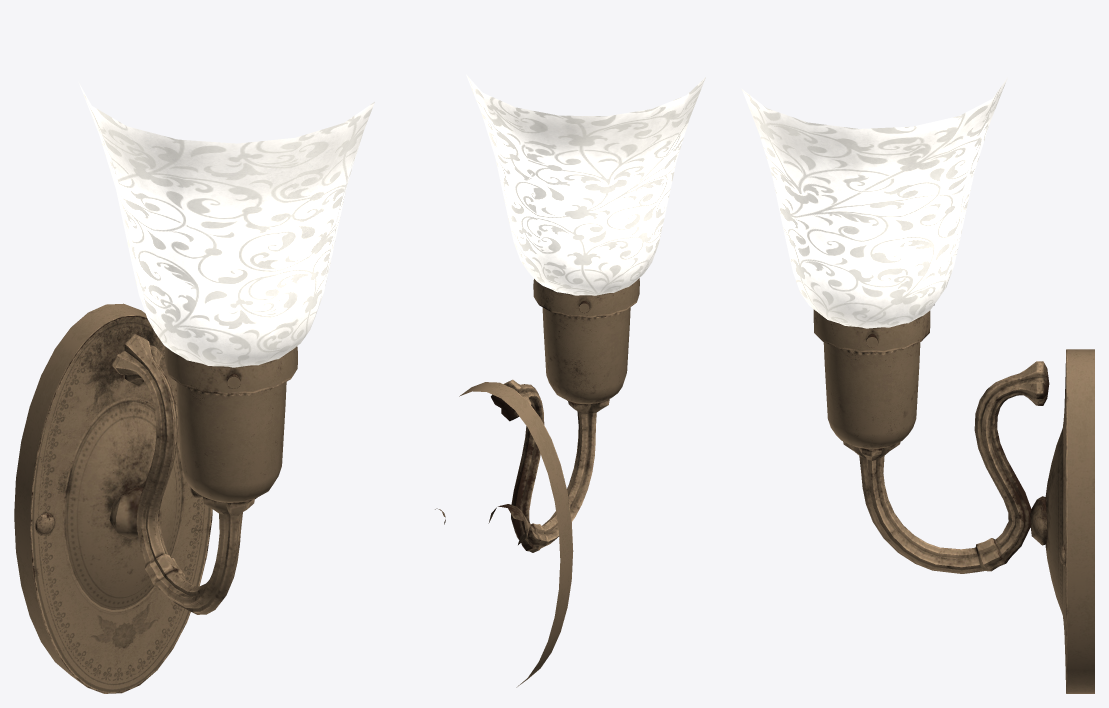
Rendered from wallLamp.glb.
3 renders of one model, left to right at view 1: azimuth 30°, elevation 25°; view 2: azimuth 150°, elevation 25°; view 3: azimuth 270°, elevation 25°, orthographic. The views are drawn at different scales.
Parts seen in each view (by area): view 1: LamparaPared2; view 2: LamparaPared2; view 3: LamparaPared2.
Part boxes in pixels (bbox=[...]): LamparaPared2: bbox=[14, 82, 374, 693]; LamparaPared2: bbox=[435, 74, 705, 687]; LamparaPared2: bbox=[741, 77, 1094, 693].
Size of the model in its own units: 0.2674 by 0.6704 by 0.3528.
Materials: 1 (1 with a texture image).
